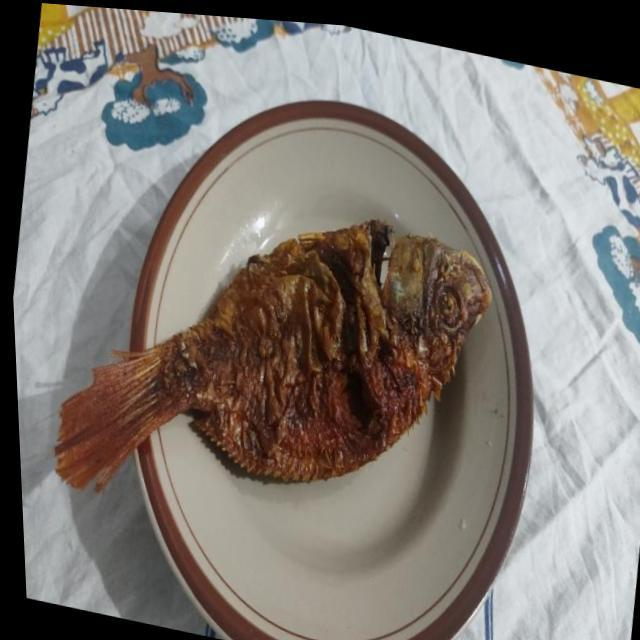ikan_mujair: (56, 219, 492, 492)
